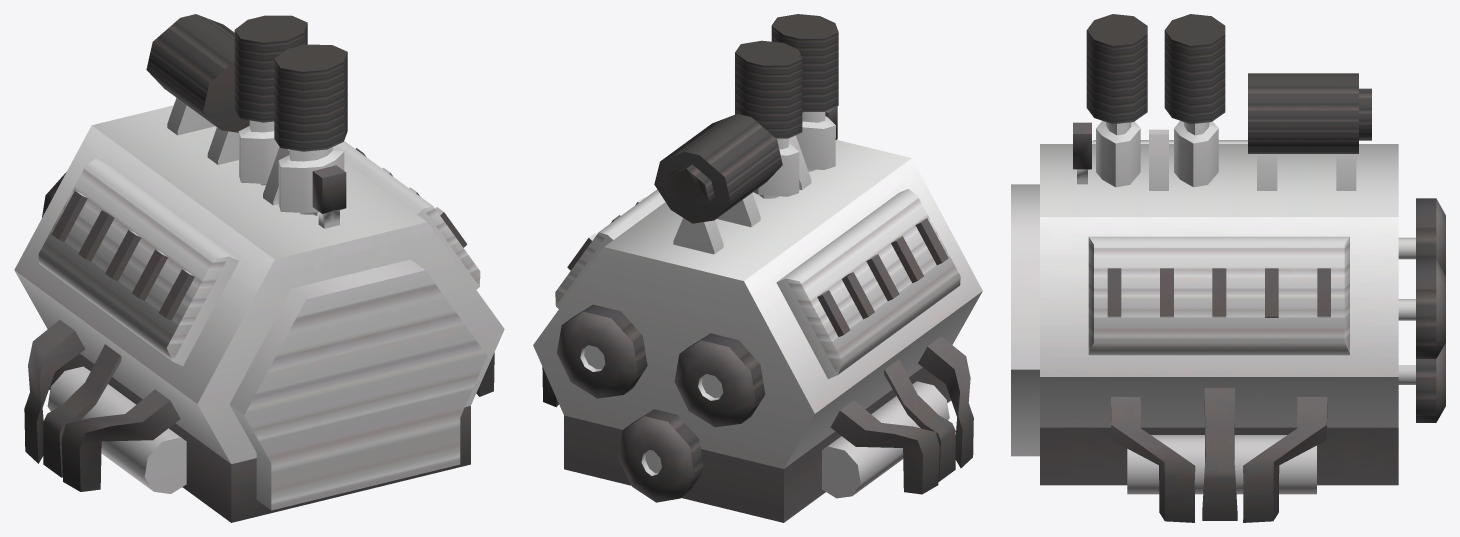
File: Engine_Relic.fbx
3 renders of one model, left to right at view 1: azimuth 30°, elevation 25°; view 2: azimuth 150°, elevation 25°; view 3: azimuth 270°, elevation 25°, orthographic. The views are drawn at different scales.
Visible parts, largest first — view 1: Relic_CD; view 2: Relic_CD; view 3: Relic_CD.
Boxes of the visible parts, <box> form: Relic_CD: <box>14,14,504,522</box>; Relic_CD: <box>533,14,982,522</box>; Relic_CD: <box>1011,14,1445,522</box>.
Size of the model in its own units: 1.08 by 0.999 by 0.9891.
1 material, 1 textured.
